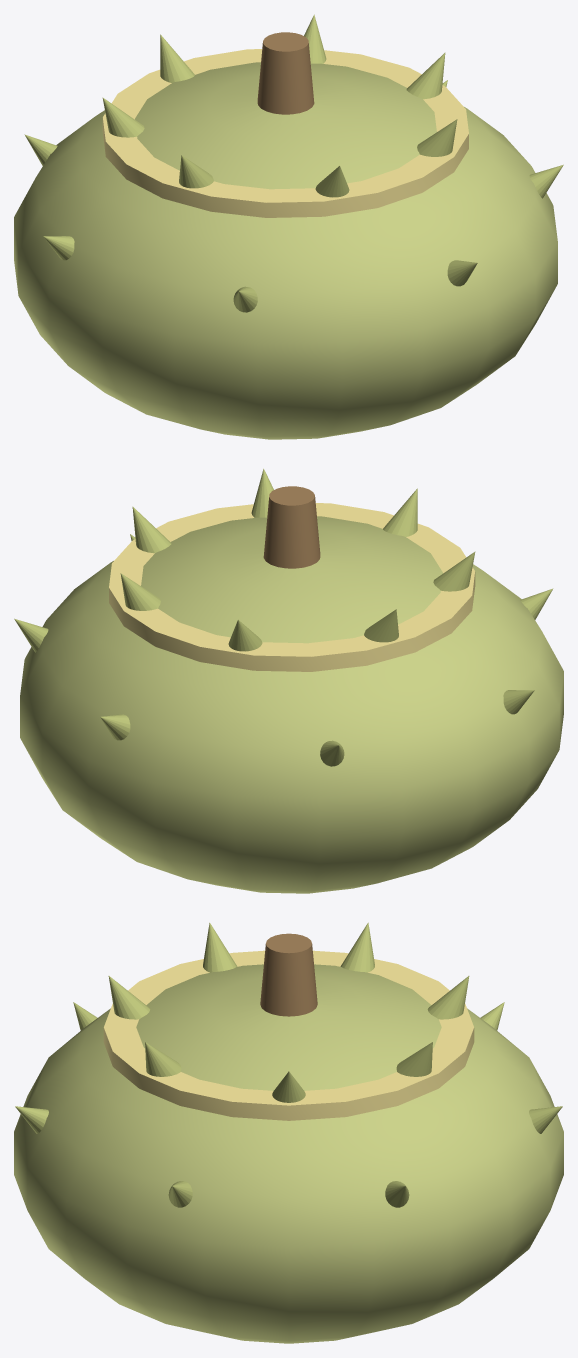
The model's file is vo_sau_rieng.glb.
3 views of the same model, one above another, from view 1: azimuth 30°, elevation 25°; view 2: azimuth 150°, elevation 25°; view 3: azimuth 270°, elevation 25° (orthographic).
Parts seen in each view (by area): view 1: Sph1, Cyl1, Cyl2, Cyl3, Cyl13, Cyl11, Cyl5, Cyl9, Cyl7, Cyl15, Cyl6, Cyl4; view 2: Sph1, Cyl1, Cyl2, Cyl3, Cyl7, Cyl9, Cyl15, Cyl11, Cyl13, Cyl5, Cyl14, Cyl16; view 3: Sph1, Cyl1, Cyl2, Cyl7, Cyl13, Cyl9, Cyl11, Cyl5, Cyl15, Cyl3, Cyl4, Cyl16 (+2 smaller).
Part boxes in pixels (x1,y1,x2,y2): Sph1: (14, 62, 557, 439); Cyl1: (102, 49, 468, 217); Cyl2: (257, 32, 314, 114); Cyl3: (406, 52, 445, 99); Cyl13: (160, 34, 194, 82); Cyl11: (102, 97, 144, 137); Cyl5: (417, 119, 457, 156); Cyl9: (179, 155, 213, 188); Cyl7: (315, 166, 349, 197); Cyl15: (304, 14, 326, 63); Cyl6: (447, 260, 477, 286); Cyl4: (529, 164, 563, 198); Sph1: (20, 516, 563, 893); Cyl1: (109, 503, 475, 671); Cyl2: (263, 486, 320, 568); Cyl3: (132, 506, 171, 553); Cyl7: (383, 488, 417, 536); Cyl9: (433, 551, 475, 591); Cyl15: (120, 573, 160, 610); Cyl11: (364, 609, 398, 642); Cyl13: (228, 620, 262, 651); Cyl5: (251, 468, 273, 517); Cyl14: (100, 714, 130, 740); Cyl16: (14, 618, 48, 652); Sph1: (14, 964, 563, 1343); Cyl1: (103, 950, 474, 1120); Cyl2: (260, 933, 317, 1016); Cyl7: (108, 976, 150, 1019); Cyl13: (427, 976, 469, 1019); Cyl9: (203, 922, 237, 972); Cyl11: (340, 922, 374, 972); Cyl5: (145, 1042, 181, 1076); Cyl15: (396, 1042, 432, 1076); Cyl3: (272, 1071, 305, 1102); Cyl4: (168, 1181, 192, 1207); Cyl16: (385, 1181, 409, 1207).
Size of the model in its own units: 0.3609 by 0.258 by 0.3563.
